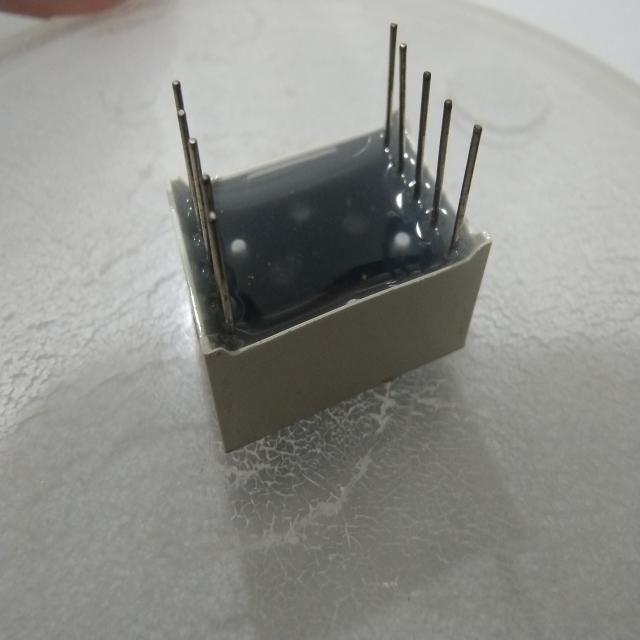7_segments: (154, 18, 499, 454)
